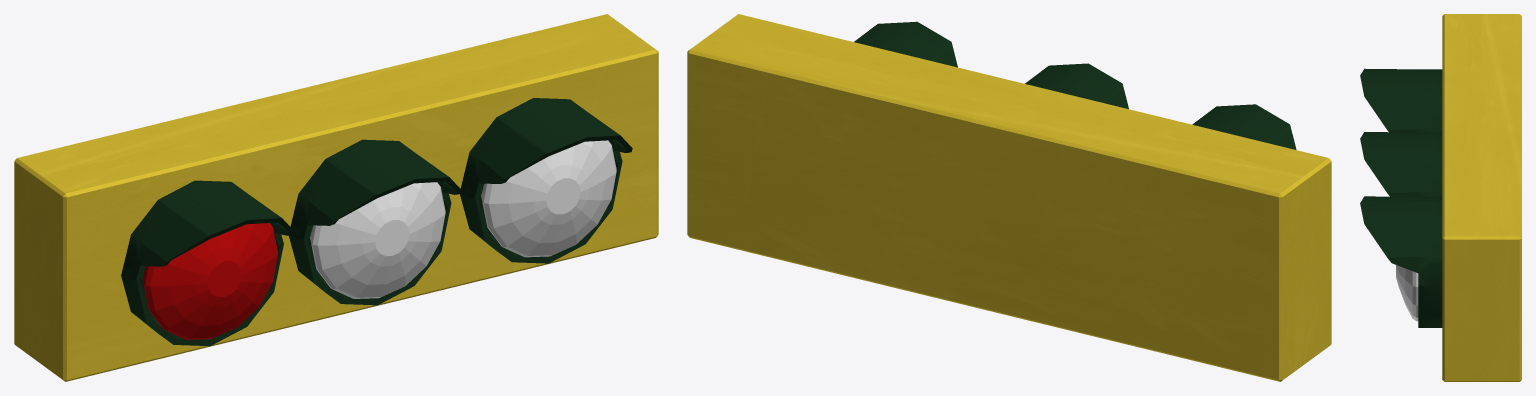
File: traffic_light_sideways.fbx
3 renders of one model, left to right at view 1: azimuth 30°, elevation 25°; view 2: azimuth 150°, elevation 25°; view 3: azimuth 270°, elevation 25°, orthographic. The views are drawn at different scales.
Visible parts, largest first — view 1: baseboard, red_glass1, amber_glass1, green_glass3, red_light_frame, green_light_frame, amber_light_frame; view 2: baseboard, amber_light_frame, green_light_frame, red_light_frame; view 3: baseboard, green_light_frame, amber_light_frame, red_light_frame, green_glass3.
Boxes of the visible parts, x1,y1,x2,y2 form: baseboard: (14, 14, 658, 381); red_glass1: (142, 223, 278, 339); amber_glass1: (310, 182, 445, 298); green_glass3: (481, 140, 616, 257); red_light_frame: (121, 180, 293, 346); green_light_frame: (460, 98, 632, 263); amber_light_frame: (289, 139, 461, 305); baseboard: (687, 14, 1331, 381); amber_light_frame: (1025, 63, 1128, 108); green_light_frame: (854, 21, 957, 67); red_light_frame: (1192, 104, 1296, 149); baseboard: (1442, 14, 1521, 381); green_light_frame: (1360, 196, 1442, 327); amber_light_frame: (1360, 132, 1442, 196); red_light_frame: (1360, 68, 1442, 132); green_glass3: (1396, 265, 1418, 321).
Bounding box in the file's own units: 3.61 × 1.09 × 1.1.
Materials: 8 (2 with a texture image).
